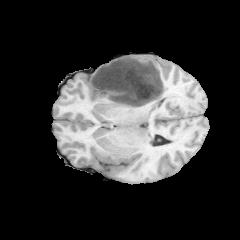glioma: (90, 55, 168, 107)
